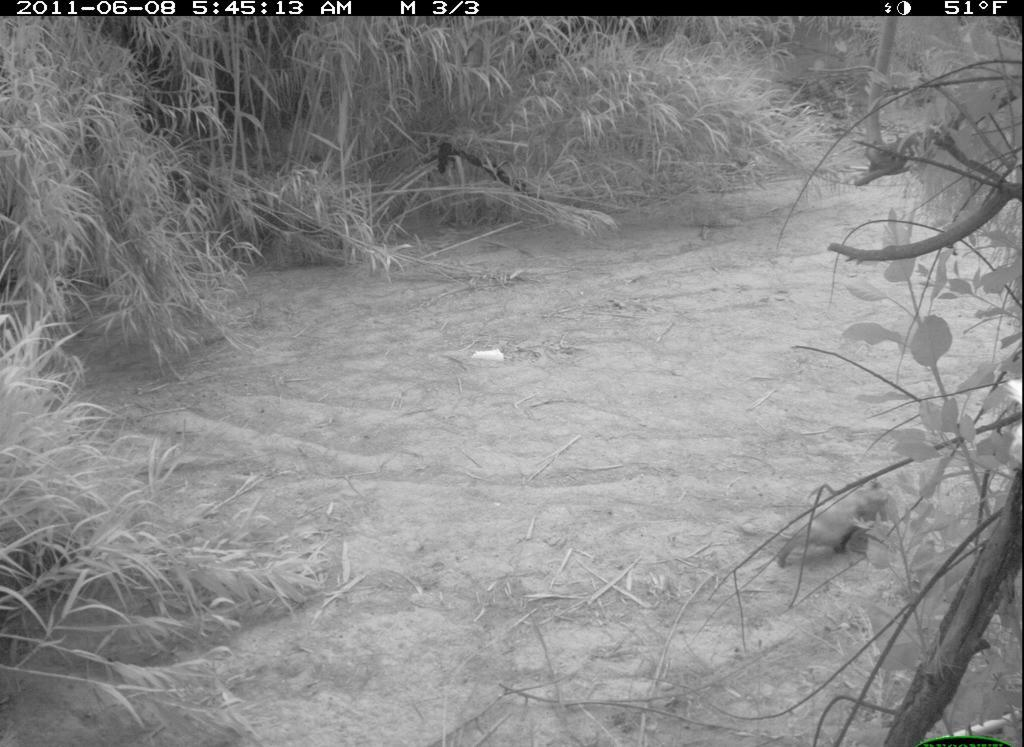opossum: (772, 479, 904, 570)
